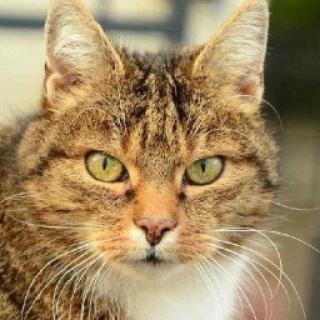cat: (21, 12, 285, 280)
nose: (129, 183, 188, 252)
